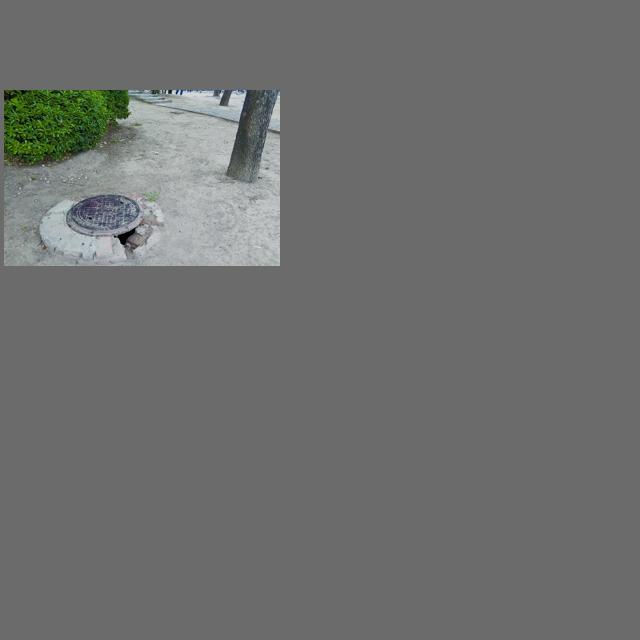circle: (35, 191, 170, 257)
